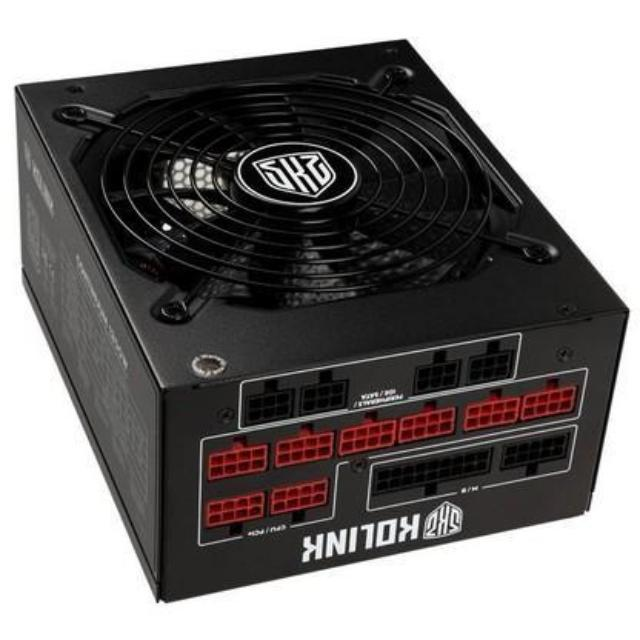PSU: (0, 17, 634, 640)
